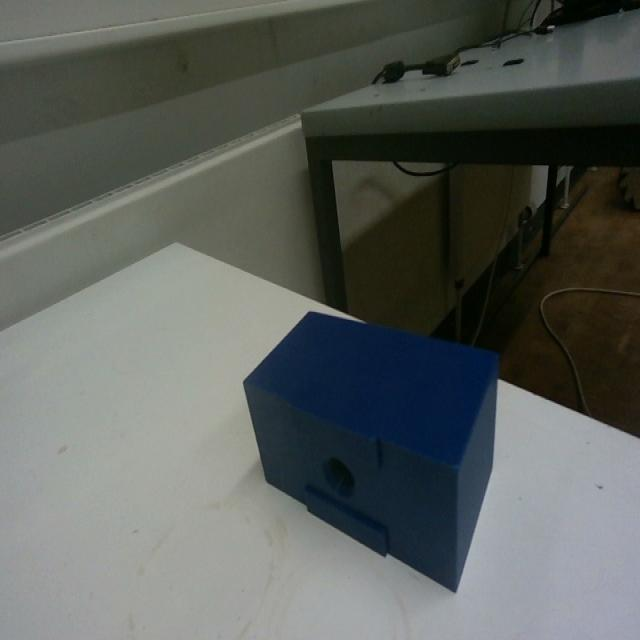Blue Cuboid: (240, 304, 502, 593)
